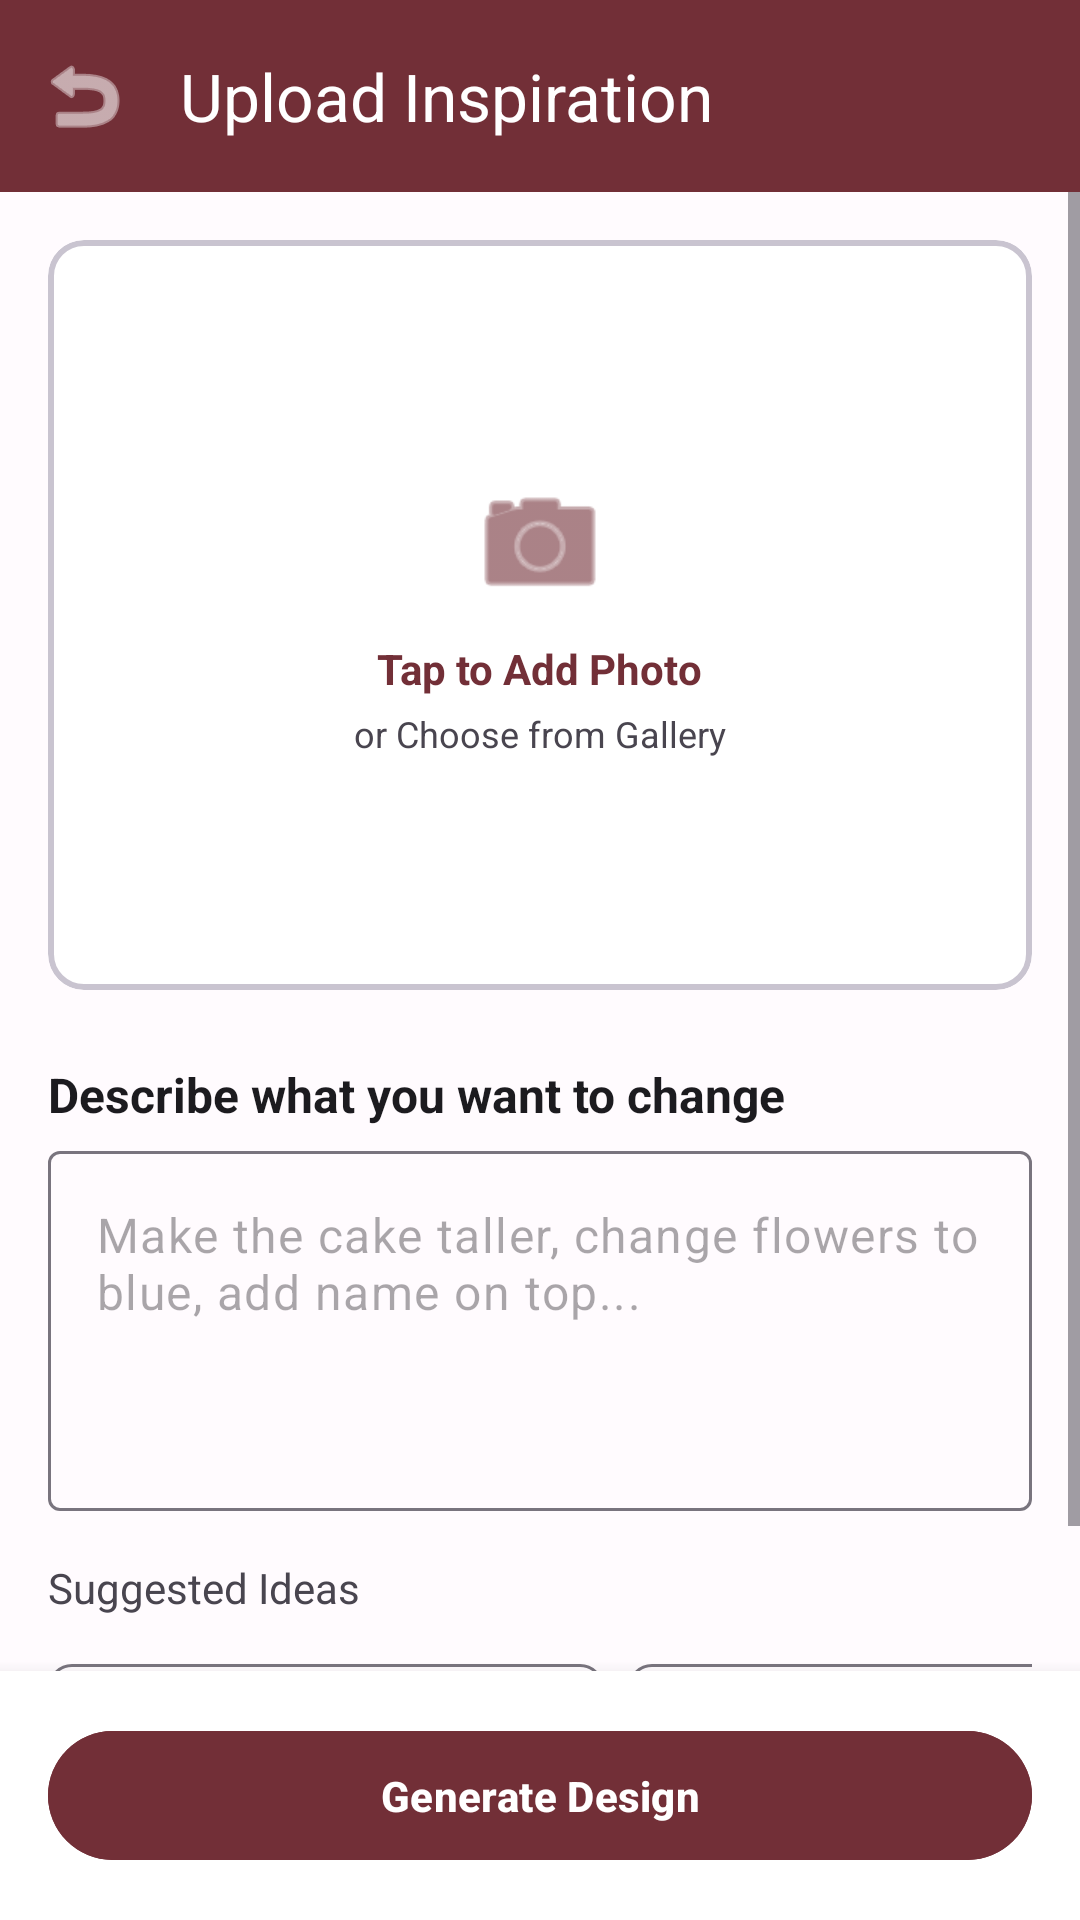

Screen size 1080×1920. Icon name, then its box in pixels as (x1, y1, x2, y2):
camera: (484, 497, 596, 586)
